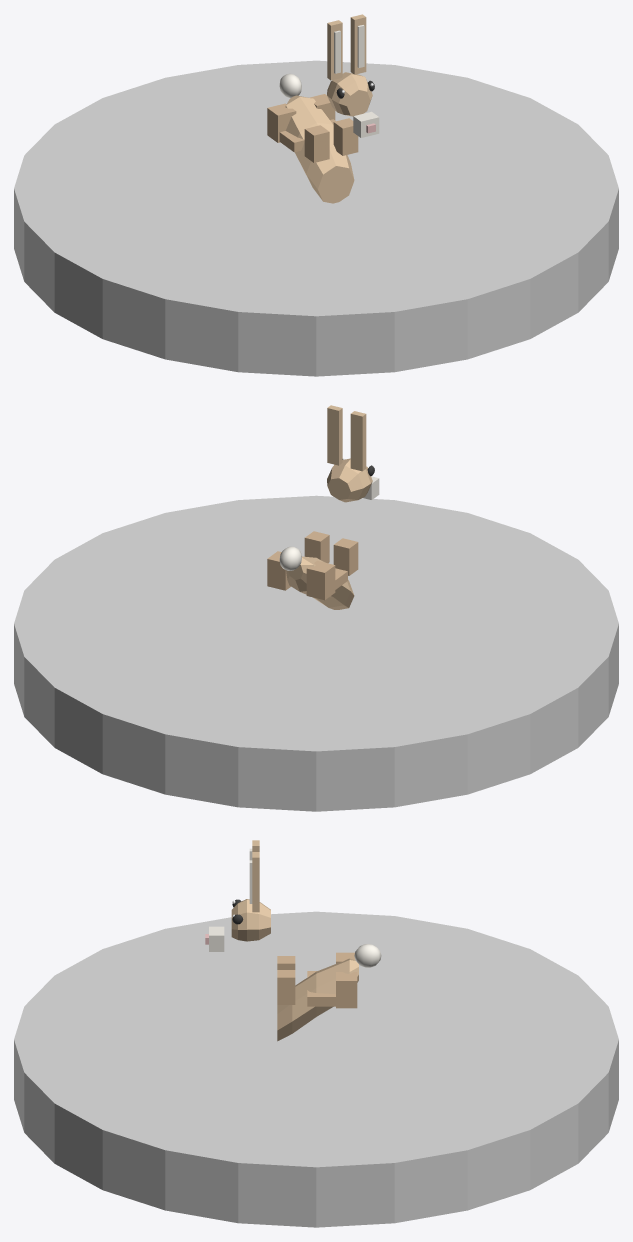
The model's file is conejo_v5_aprobado_2026-09-04_23-36-40.glb.
3 renders of one model, top to bottom at view 1: azimuth 30°, elevation 25°; view 2: azimuth 150°, elevation 25°; view 3: azimuth 270°, elevation 25°, orthographic.
Parts seen in each view (by area): view 1: Base_Arena, SM_Conejo_Cuerpo, SM_Conejo_Cabeza, SM_Conejo_Pata_D_I, SM_Conejo_Pata_D_D, SM_Conejo_Oreja_D, SM_Conejo_Pata_T_I, SM_Conejo_Oreja_I, SM_Conejo_Hocico; view 2: Base_Arena, SM_Conejo_Cabeza, SM_Conejo_Cuerpo, SM_Conejo_Pata_T_I, SM_Conejo_Oreja_I, SM_Conejo_Oreja_D, SM_Conejo_Pata_D_I, SM_Conejo_Pata_D_D, SM_Conejo_Pata_T_D; view 3: Base_Arena, SM_Conejo_Cuerpo, SM_Conejo_Cabeza, SM_Conejo_Pata_T_D, SM_Conejo_Pata_D_D.
Part boxes in pixels (x1=…): Base_Arena: x1=14, y1=60, x2=618, y2=376; SM_Conejo_Cuerpo: x1=285, y1=95, x2=354, y2=203; SM_Conejo_Cabeza: x1=327, y1=72, x2=372, y2=116; SM_Conejo_Pata_D_I: x1=304, y1=125, x2=329, y2=162; SM_Conejo_Pata_D_D: x1=333, y1=118, x2=358, y2=155; SM_Conejo_Oreja_D: x1=350, y1=14, x2=366, y2=74; SM_Conejo_Pata_T_I: x1=267, y1=103, x2=296, y2=142; SM_Conejo_Oreja_I: x1=327, y1=20, x2=342, y2=80; SM_Conejo_Hocico: x1=353, y1=111, x2=379, y2=137; Base_Arena: x1=14, y1=495, x2=618, y2=811; SM_Conejo_Cabeza: x1=327, y1=458, x2=372, y2=502; SM_Conejo_Cuerpo: x1=286, y1=556, x2=354, y2=609; SM_Conejo_Pata_T_I: x1=306, y1=560, x2=335, y2=600; SM_Conejo_Oreja_I: x1=350, y1=411, x2=366, y2=471; SM_Conejo_Oreja_D: x1=327, y1=405, x2=342, y2=465; SM_Conejo_Pata_D_I: x1=333, y1=538, x2=358, y2=575; SM_Conejo_Pata_D_D: x1=304, y1=531, x2=329, y2=563; SM_Conejo_Pata_T_D: x1=267, y1=551, x2=290, y2=590; Base_Arena: x1=14, y1=911, x2=618, y2=1227; SM_Conejo_Cuerpo: x1=277, y1=958, x2=358, y2=1041; SM_Conejo_Cabeza: x1=231, y1=899, x2=270, y2=941; SM_Conejo_Pata_T_D: x1=336, y1=972, x2=357, y2=1008; SM_Conejo_Pata_D_D: x1=277, y1=970, x2=295, y2=1004.
Size of the model in its own units: 2 by 0.915 by 2.
